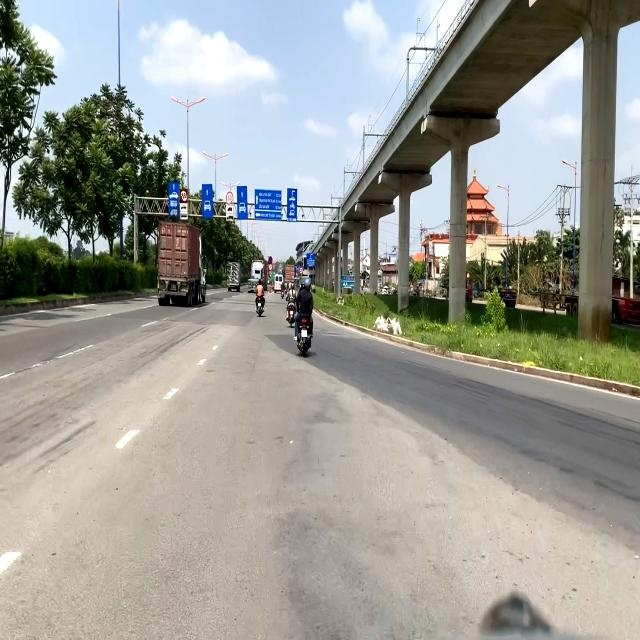bien_chi_dan: (226, 191, 234, 205), (180, 189, 187, 203), (268, 256, 272, 264)
